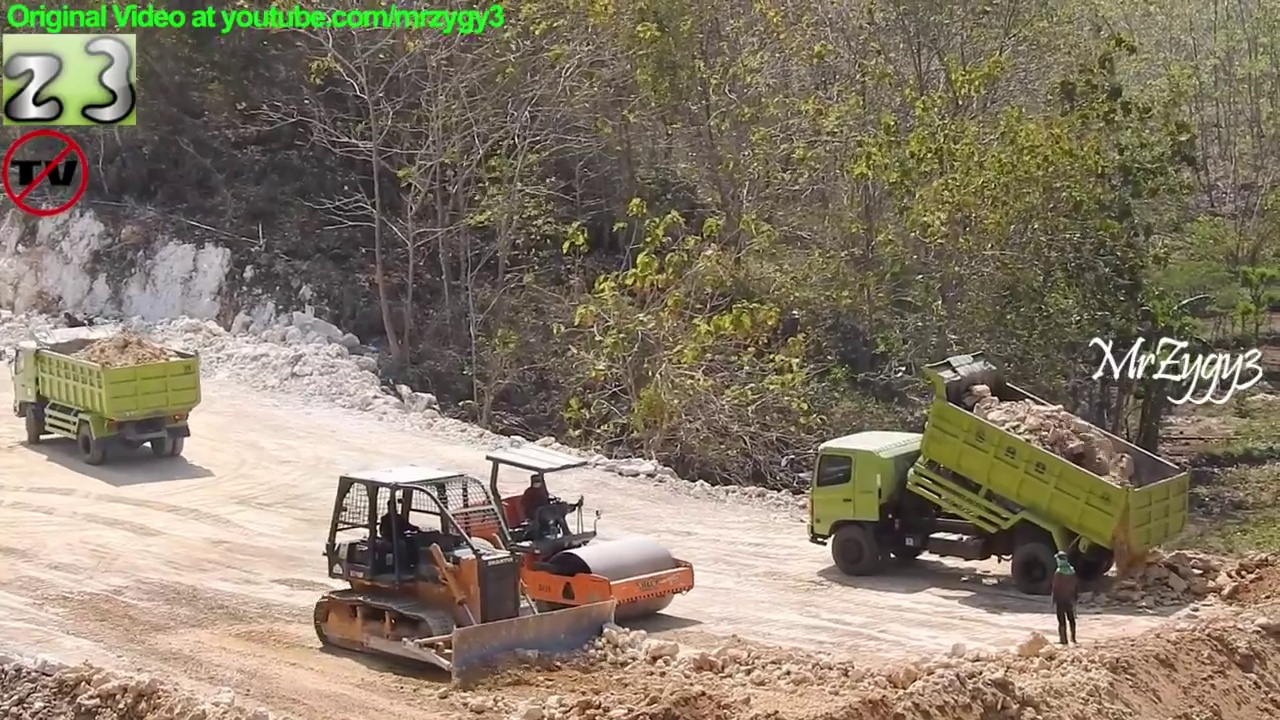bulldozer: (310, 461, 630, 690)
compactor: (419, 437, 699, 636)
truck: (792, 347, 1200, 598), (1, 320, 207, 469)
